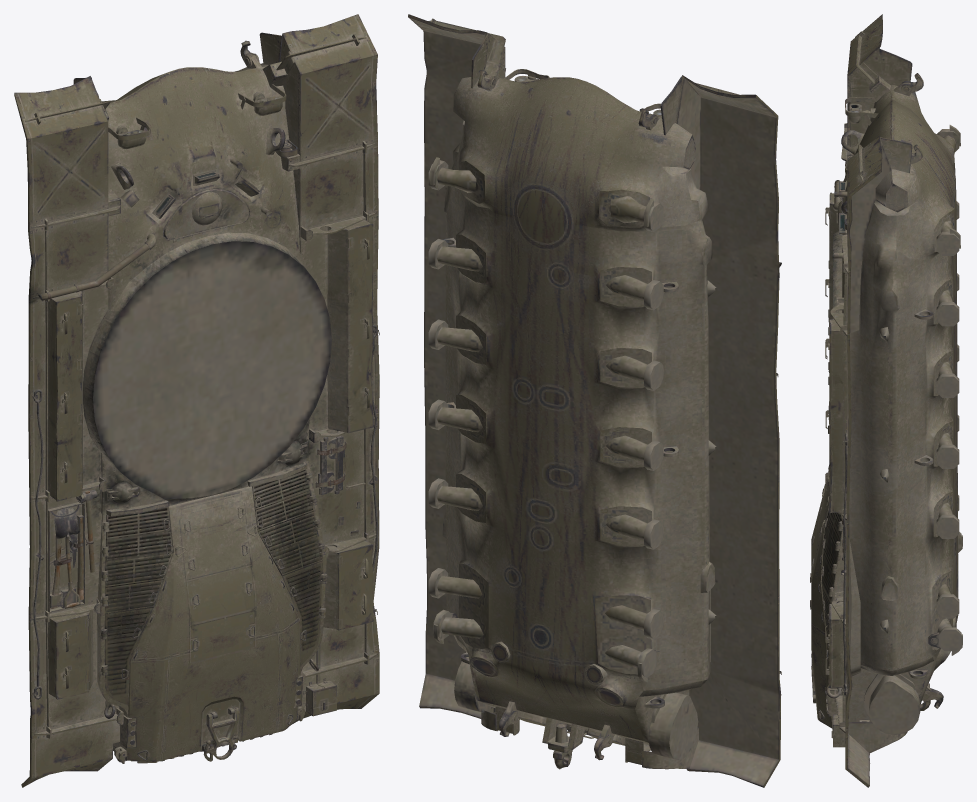
File: Hull.glb
3 renders of one model, left to right at view 1: azimuth 30°, elevation 25°; view 2: azimuth 150°, elevation 25°; view 3: azimuth 270°, elevation 25°, orthographic. The views are drawn at different scales.
Visible parts, largest first — view 1: set_0_group_0; view 2: set_0_group_0; view 3: set_0_group_0.
Part boxes in pixels (<box>): set_0_group_0: <box>14,14,379,787</box>; set_0_group_0: <box>408,14,781,787</box>; set_0_group_0: <box>810,14,962,787</box>.
Bounding box in the file's own units: 3.65 × 6.91 × 1.53.
1 material, 1 textured.
